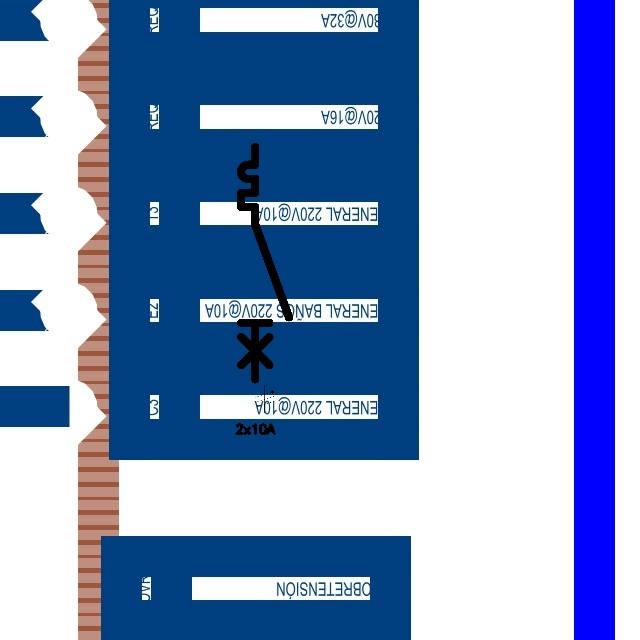interruptor_termomagnetico: (235, 141, 295, 385)
